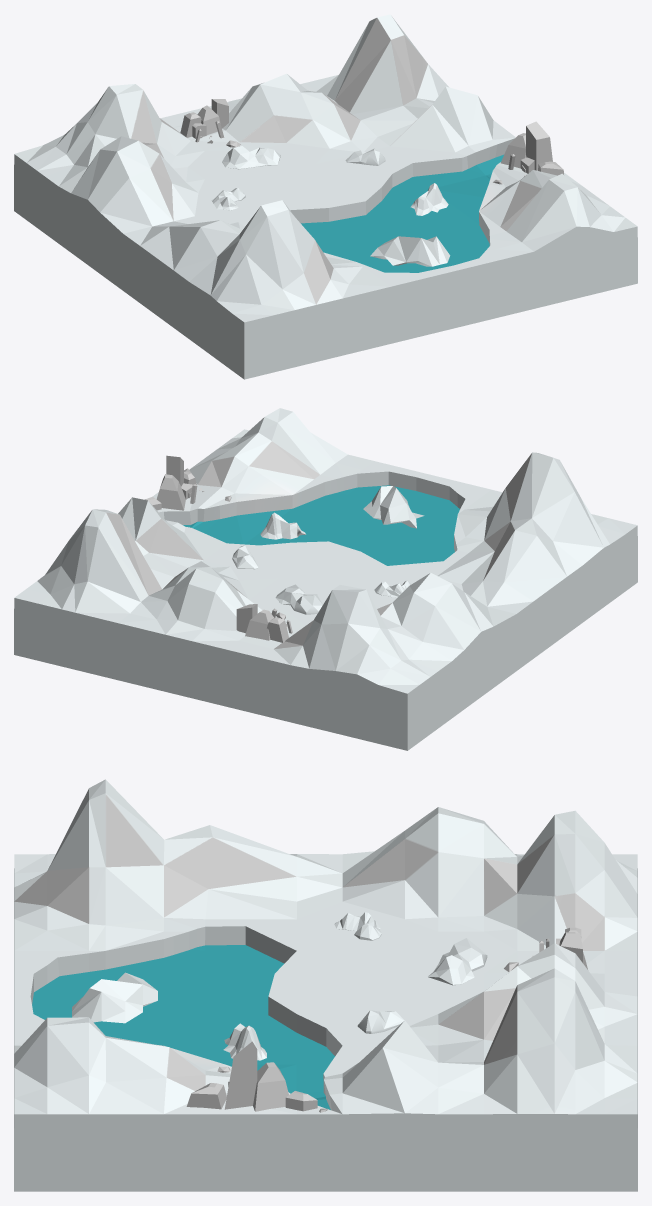
The model's file is environment-present.glb.
The picture shows the model from 3 angles, top to bottom: view 1: azimuth 30°, elevation 25°; view 2: azimuth 150°, elevation 25°; view 3: azimuth 270°, elevation 25°; orthographic projection. The views are drawn at different scales.
Parts seen in each view (by area): view 1: Environment_08, glacier_2_geo, pPlane6, pCube10, glacier_3_geo, pCube9; view 2: Environment_08, glacier_2_geo, pPlane6, pCube9, glacier_3_geo, pCube2; view 3: Environment_08, glacier_2_geo, pPlane6, pCube10, pCube9, pPlane5, glacier_3_geo, pCube15, pPlane4.
Part boxes in pixels (left/top/right/bottom): Environment_08: left=14, top=14, right=637, bottom=379; glacier_2_geo: left=370, top=236, right=450, bottom=266; pPlane6: left=222, top=146, right=280, bottom=169; pCube10: left=526, top=121, right=552, bottom=170; glacier_3_geo: left=410, top=183, right=448, bottom=215; pCube9: left=501, top=133, right=526, bottom=168; Environment_08: left=14, top=408, right=637, bottom=750; glacier_2_geo: left=363, top=486, right=424, bottom=528; pPlane6: left=275, top=584, right=324, bottom=614; pCube9: left=156, top=474, right=185, bottom=510; glacier_3_geo: left=260, top=512, right=305, bottom=539; pCube2: left=245, top=609, right=274, bottom=640; Environment_08: left=14, top=779, right=637, bottom=1191; glacier_2_geo: left=72, top=972, right=157, bottom=1023; pPlane6: left=428, top=938, right=487, bottom=985; pCube10: left=224, top=1041, right=257, bottom=1109; pCube9: left=253, top=1062, right=288, bottom=1111; pPlane5: left=334, top=912, right=381, bottom=940; glacier_3_geo: left=223, top=1023, right=266, bottom=1060; pCube15: left=186, top=1083, right=226, bottom=1109; pPlane4: left=357, top=1010, right=404, bottom=1033.
Size of the model in its own units: 51.72 by 17.22 by 52.42.
Materials: 10 (10 with a texture image).
